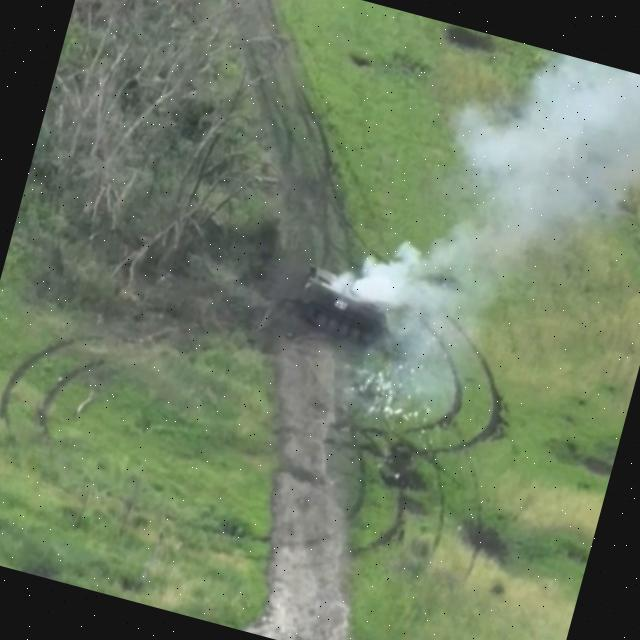APC: (291, 263, 400, 354)
